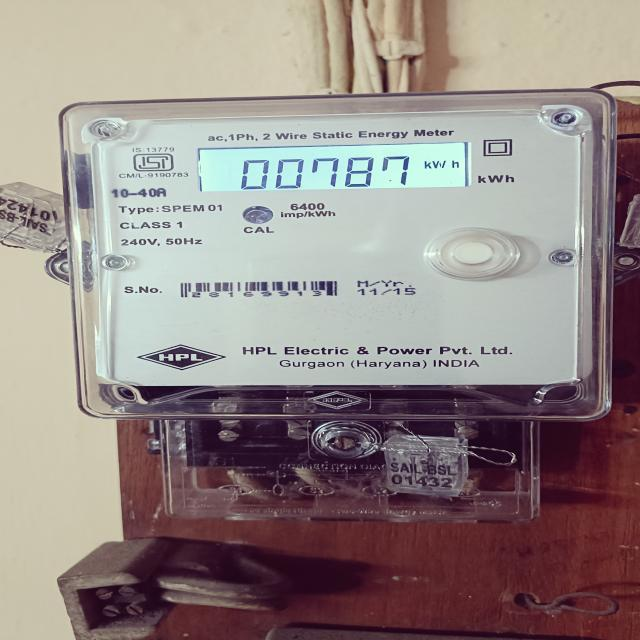display: (187, 140, 478, 188)
